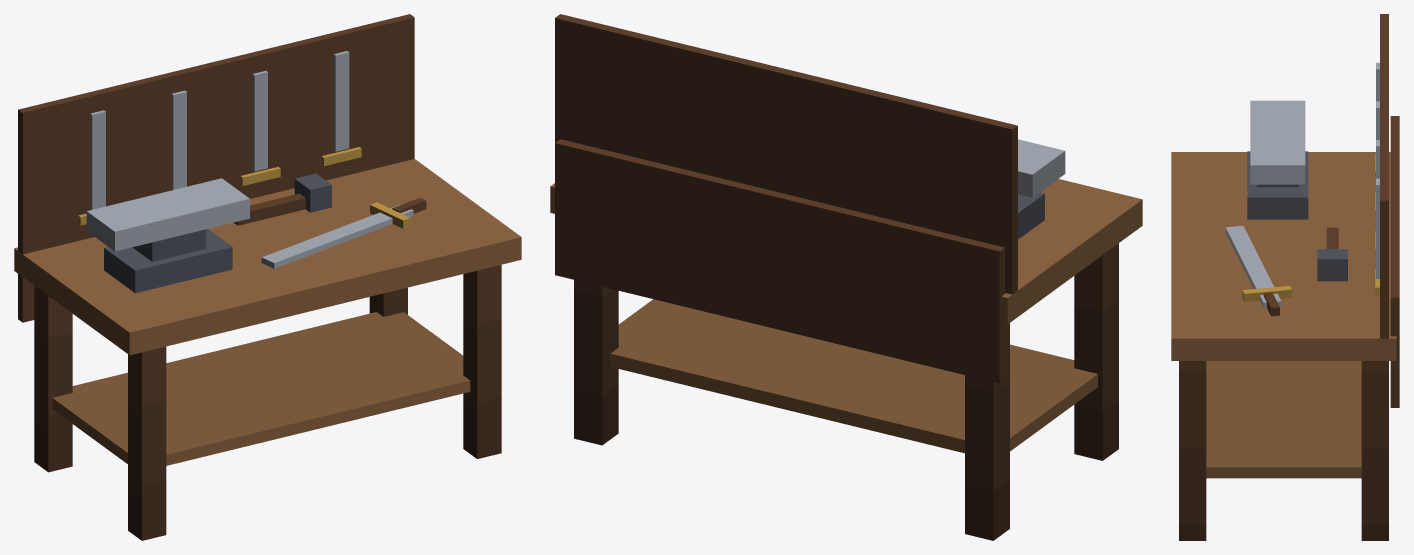
File: weapon_workbench.glb
3 renders of one model, left to right at view 1: azimuth 30°, elevation 25°; view 2: azimuth 150°, elevation 25°; view 3: azimuth 270°, elevation 25°, orthographic. The views are drawn at different scales.
Size of the model in its own units: 1.45 by 1.26 by 0.75.
Materials: 1 (1 with a texture image).
